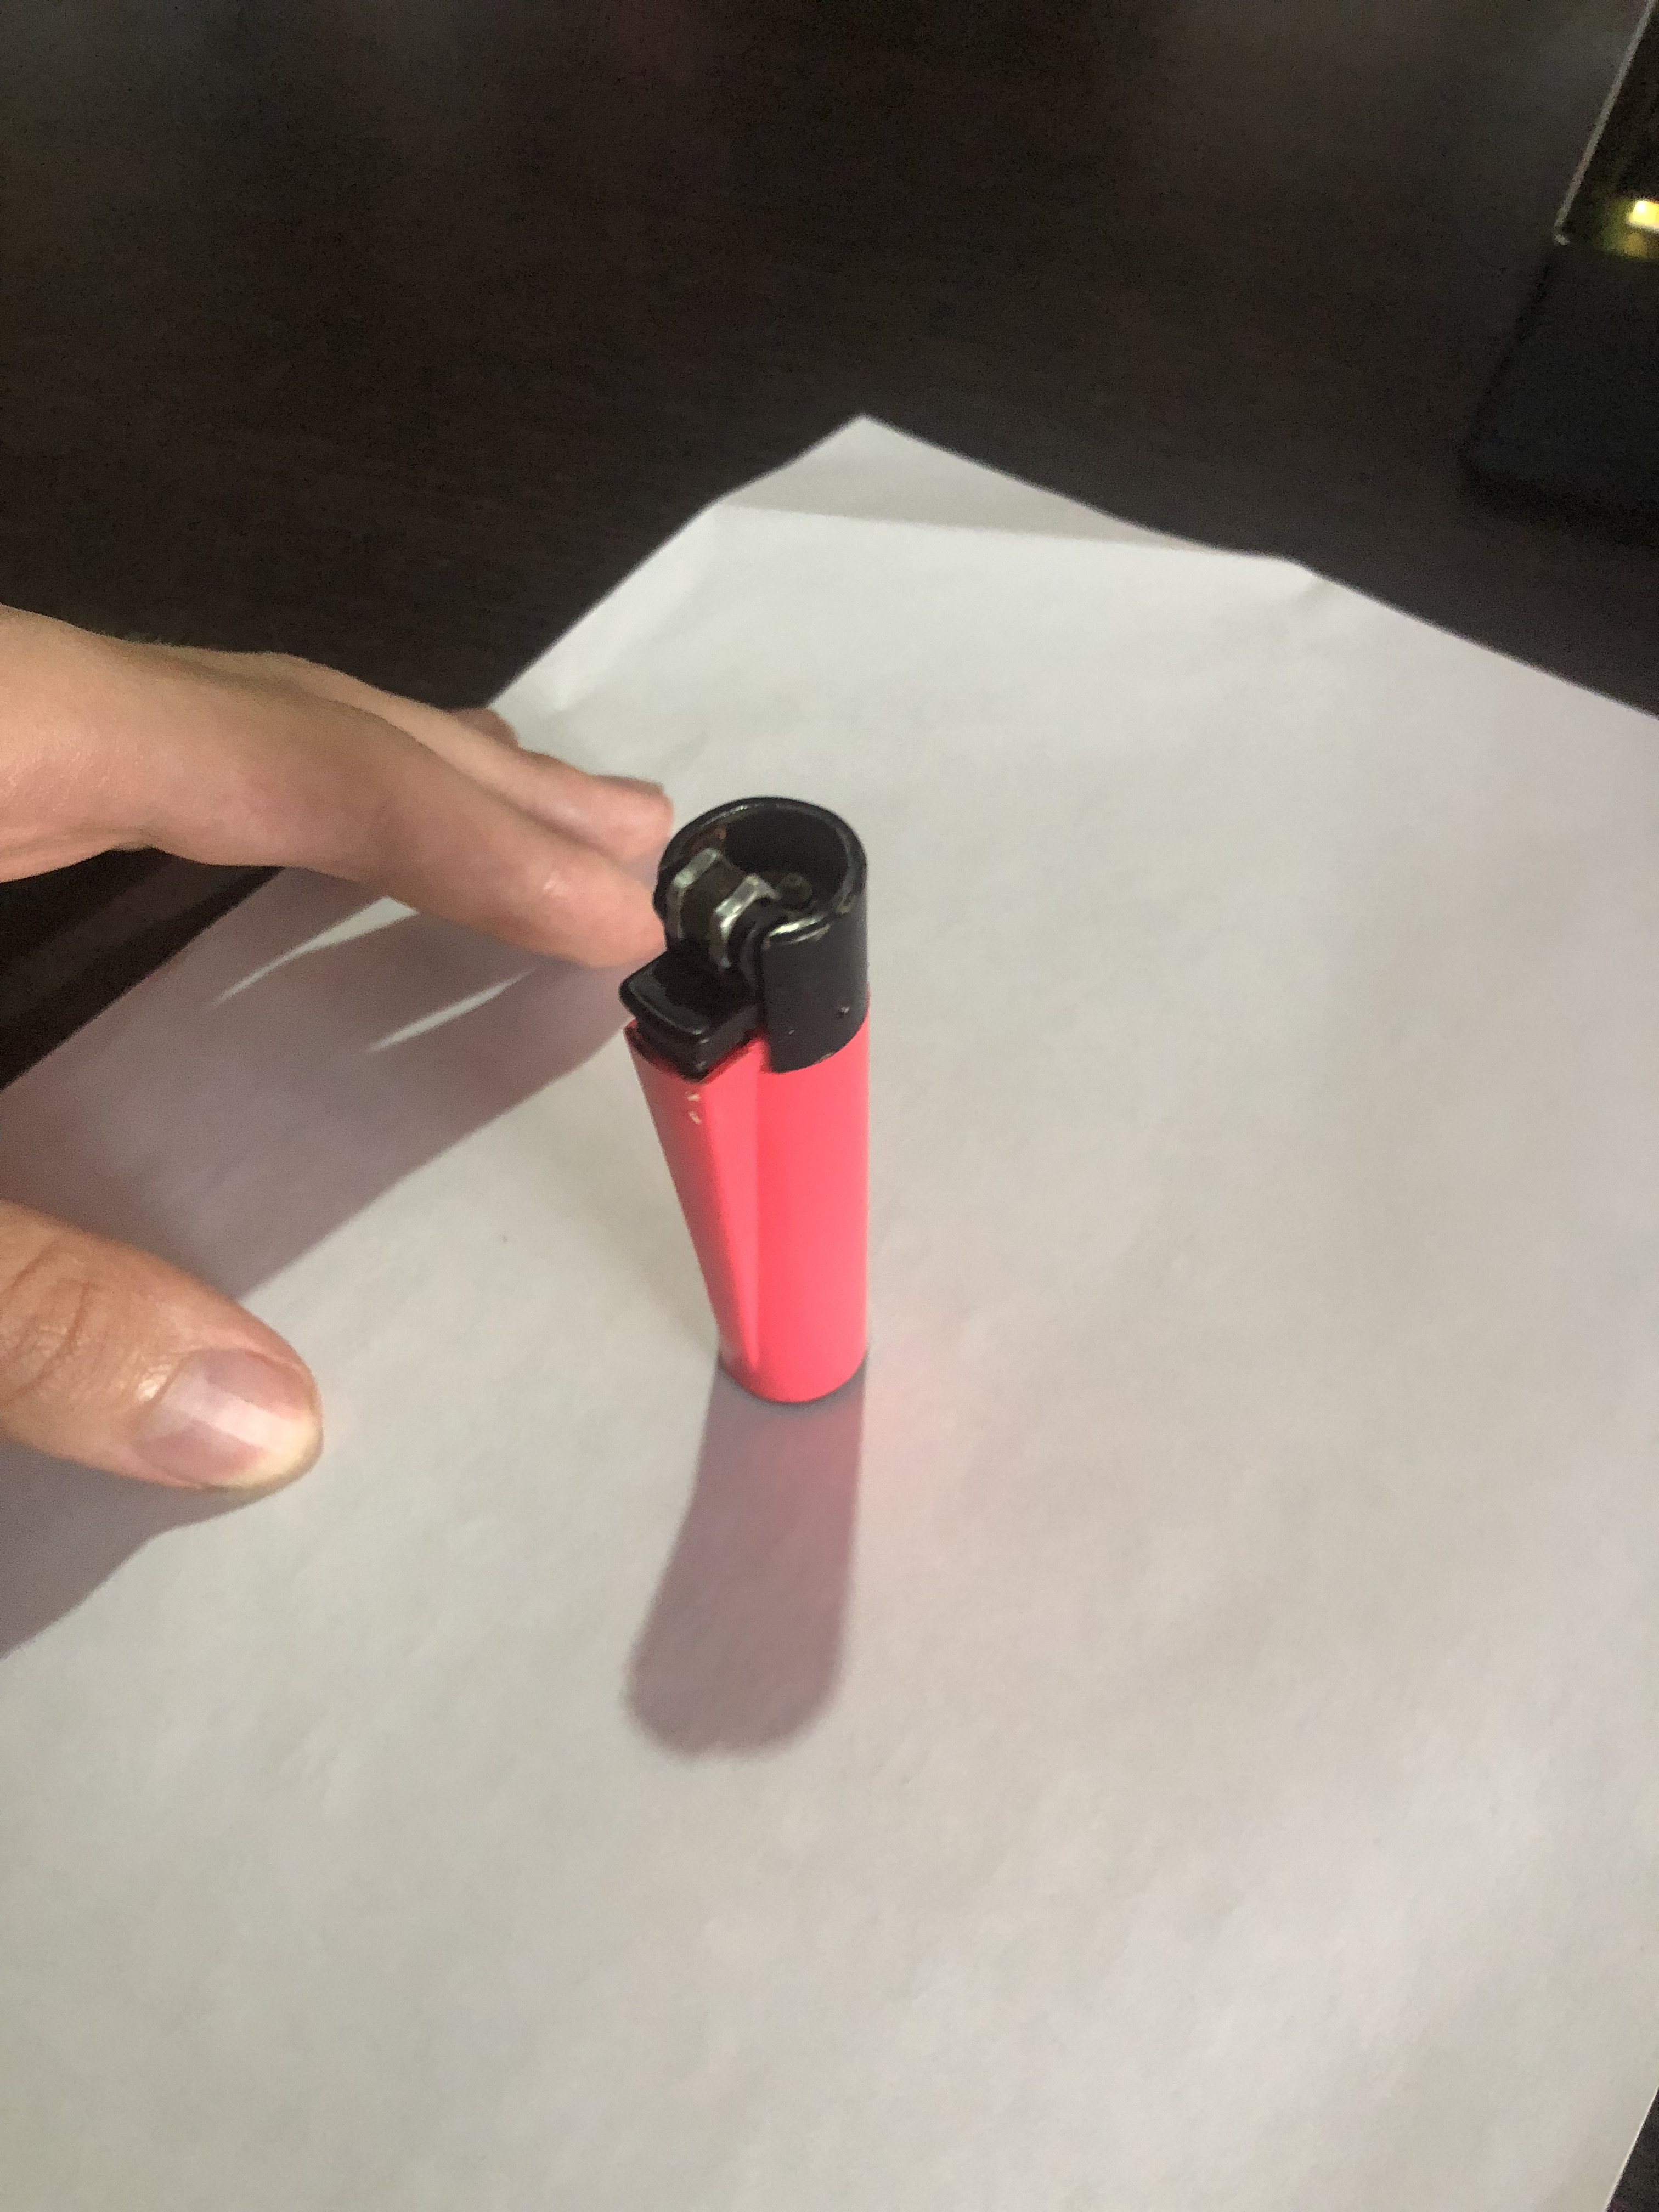Mechero: (572, 761, 943, 1432)
